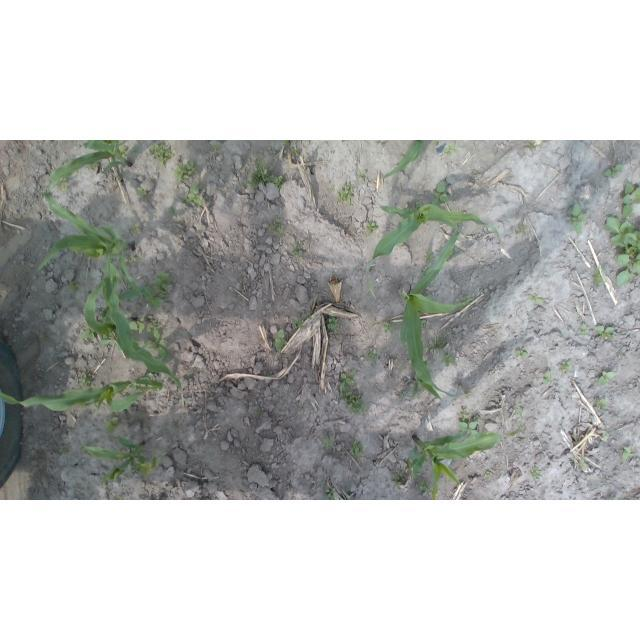Maize: (37, 190, 148, 355), (400, 222, 476, 400), (367, 203, 503, 301), (85, 275, 184, 390), (411, 400, 523, 499), (1, 371, 164, 413), (78, 434, 159, 490), (47, 140, 131, 189), (385, 140, 423, 178)
Weeds: (605, 216, 640, 288), (252, 159, 283, 188), (144, 328, 169, 359), (566, 203, 587, 234), (621, 182, 639, 217), (147, 142, 173, 166), (343, 389, 366, 414), (185, 183, 204, 206), (176, 160, 197, 180), (432, 181, 448, 207), (338, 183, 355, 206), (340, 369, 356, 391), (144, 287, 160, 307), (458, 421, 479, 435), (156, 272, 172, 290), (274, 329, 287, 351), (267, 219, 286, 234), (605, 163, 624, 178), (591, 264, 606, 283), (594, 326, 615, 339), (350, 441, 366, 457), (290, 239, 304, 257), (79, 372, 94, 388), (104, 418, 119, 434), (600, 371, 617, 385), (557, 360, 573, 374), (130, 320, 147, 333), (82, 326, 95, 342), (393, 472, 406, 487), (285, 140, 298, 154), (578, 323, 591, 337), (367, 348, 378, 364), (428, 339, 445, 349), (541, 370, 552, 385), (459, 405, 469, 421), (444, 351, 454, 367), (382, 320, 395, 332), (529, 293, 544, 303), (623, 447, 633, 462), (424, 251, 436, 263), (418, 479, 430, 491), (445, 143, 456, 156), (516, 347, 528, 358), (596, 398, 607, 410), (532, 469, 543, 481), (323, 436, 333, 449), (366, 222, 376, 234), (325, 488, 335, 500), (328, 317, 338, 329), (70, 280, 79, 293), (57, 179, 67, 190), (292, 320, 305, 328), (137, 187, 147, 197), (516, 225, 526, 234), (119, 146, 127, 155), (59, 445, 67, 454), (602, 433, 610, 441), (133, 225, 140, 234), (161, 292, 170, 299), (358, 173, 366, 180), (169, 208, 175, 217), (213, 142, 219, 150), (484, 471, 492, 477), (465, 389, 471, 397), (424, 266, 429, 274), (307, 313, 313, 319), (329, 185, 335, 191), (39, 333, 44, 340), (115, 496, 122, 500), (136, 255, 141, 260), (256, 408, 261, 413), (433, 140, 439, 144), (38, 372, 42, 378)
